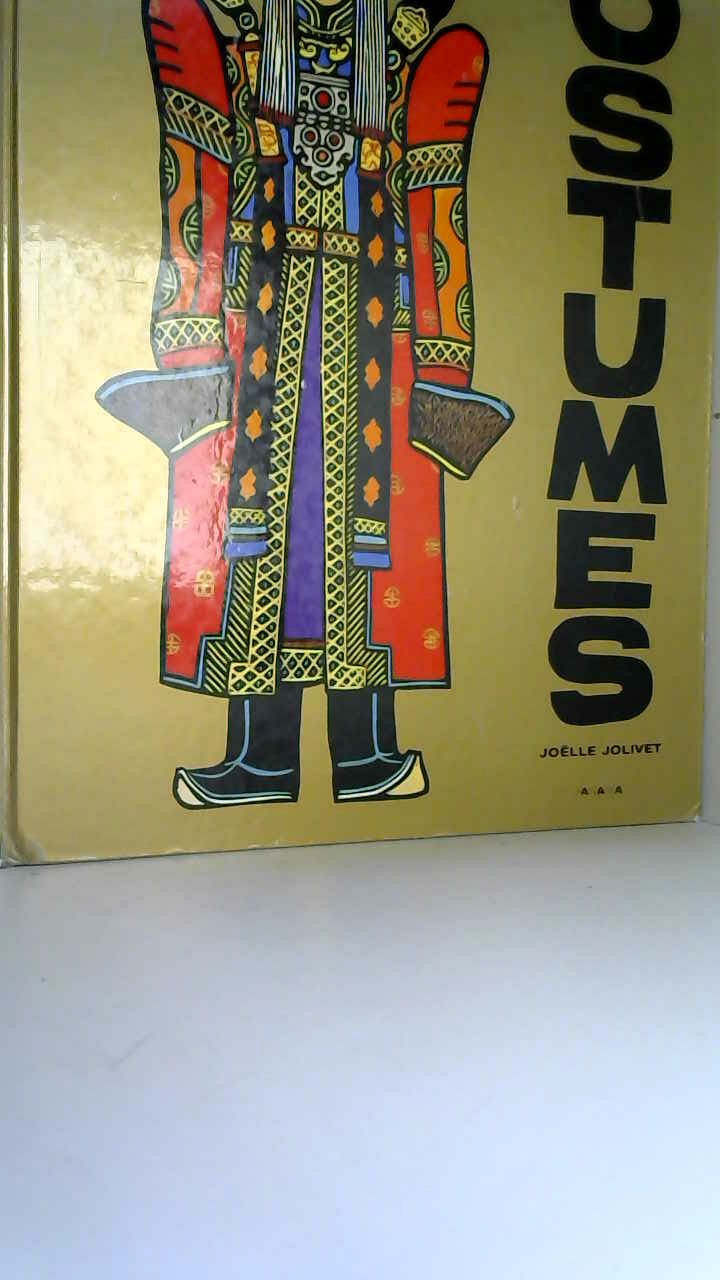book: (0, 0, 716, 882)
